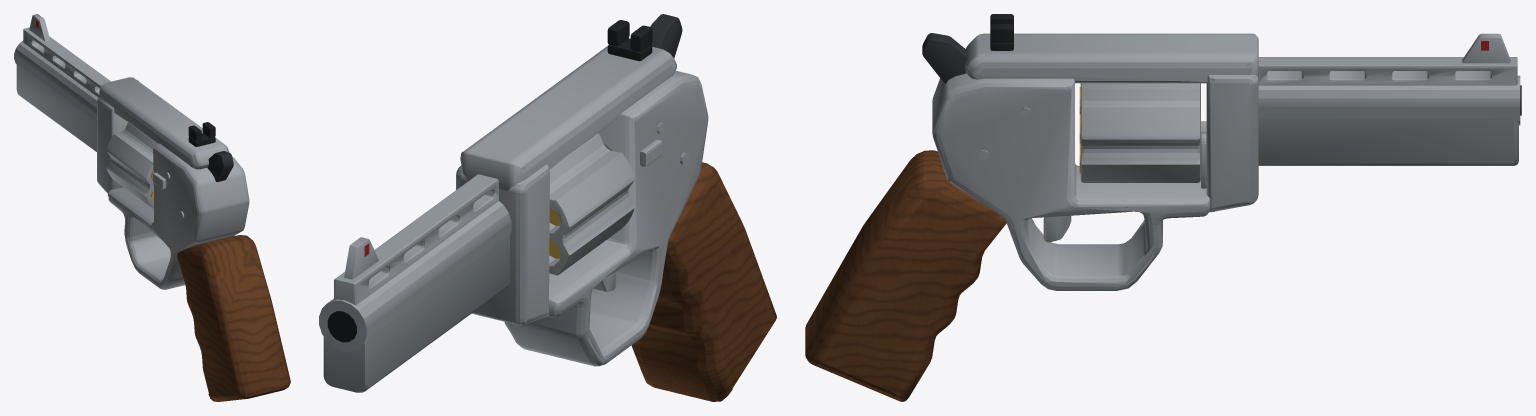
The picture shows the model from 3 angles, left to right: view 1: azimuth 30°, elevation 25°; view 2: azimuth 150°, elevation 25°; view 3: azimuth 270°, elevation 25°; orthographic projection. The views are drawn at different scales.
Visible parts, largest first — view 1: body_steel_0, body_woodGrip_5, cyl_steel_6, body_metal_4, body_dark_3; view 2: body_steel_0, body_woodGrip_5, cyl_steel_6, body_dark_3, body_metal_4, body_poly_1; view 3: body_steel_0, body_woodGrip_5, cyl_steel_6, body_metal_4, body_dark_3.
Part boxes in pixels (bbox=[...]): body_steel_0: bbox=[14, 14, 249, 289]; body_woodGrip_5: bbox=[177, 235, 290, 401]; cyl_steel_6: bbox=[106, 122, 157, 208]; body_metal_4: bbox=[207, 151, 233, 181]; body_dark_3: bbox=[188, 122, 215, 146]; body_steel_0: bbox=[319, 46, 708, 392]; body_woodGrip_5: bbox=[631, 162, 776, 401]; cyl_steel_6: bbox=[549, 133, 634, 275]; body_dark_3: bbox=[607, 20, 652, 61]; body_metal_4: bbox=[650, 14, 682, 57]; body_poly_1: bbox=[327, 311, 356, 342]; body_steel_0: bbox=[932, 33, 1520, 290]; body_woodGrip_5: bbox=[805, 150, 1006, 401]; cyl_steel_6: bbox=[1080, 83, 1206, 188]; body_metal_4: bbox=[922, 33, 967, 83]; body_dark_3: bbox=[990, 14, 1013, 50].
Size of the model in its own units: 0.0396 by 0.1549 by 0.2739.
Materials: 7 (1 with a texture image).
